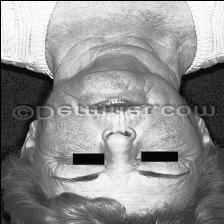Toxin: (57, 6, 172, 46), (58, 124, 96, 148), (150, 122, 184, 148)
